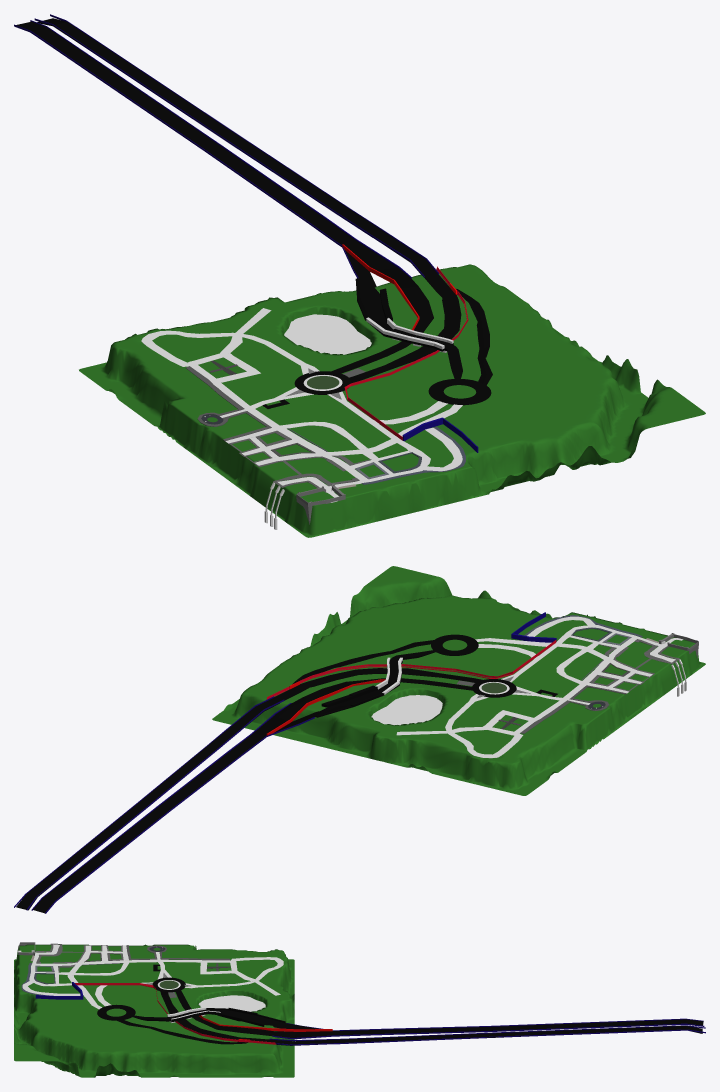
File: StMary'sIsland.fbx
3 views of the same model, one above another, from view 1: azimuth 30°, elevation 25°; view 2: azimuth 150°, elevation 25°; view 3: azimuth 270°, elevation 25° (orthographic). The views are drawn at different scales.
Parts seen in each view (by area): view 1: SaintMary's, M105Westbound, M150EastboundS, LakeWestral, government_road, westral_road, kingston_street, BridgeBarrierSTM.003, Cube.032, BridgeBarrierSTM, Vert.001, BridgeBarrierSTM.001 (+2 smaller); view 2: SaintMary's, M105Westbound, M150EastboundS, LakeWestral, UNFINISHEDAREA, government_road, westral_road, kingston_street, Cube.032, BridgeBarrierSTM, Vert.001, BridgeBarrierSTM.003 (+3 smaller); view 3: SaintMary's, M105Westbound, M150EastboundS, BridgeBarrierSTM.001, BridgeBarrierSTM.002, LakeWestral, government_road, BridgeBarrierSTM, BridgeBarrierSTM.003, UNFINISHEDAREA, westral_road, Cube.032 (+10 smaller).
Part boxes in pixels (x1=…): SaintMary's: x1=79, y1=264, x2=705, y2=537; M105Westbound: x1=16, y1=21, x2=491, y2=405; M150EastboundS: x1=37, y1=18, x2=461, y2=383; LakeWestral: x1=284, y1=314, x2=371, y2=354; government_road: x1=187, y1=361, x2=367, y2=480; westral_road: x1=141, y1=330, x2=319, y2=374; kingston_street: x1=327, y1=391, x2=430, y2=488; BridgeBarrierSTM.003: x1=34, y1=18, x2=424, y2=277; Cube.032: x1=456, y1=289, x2=492, y2=385; BridgeBarrierSTM: x1=14, y1=24, x2=358, y2=278; Vert.001: x1=228, y1=438, x2=359, y2=488; BridgeBarrierSTM.001: x1=30, y1=20, x2=411, y2=278; SaintMary's: x1=212, y1=566, x2=705, y2=795; M105Westbound: x1=33, y1=634, x2=478, y2=913; M150EastboundS: x1=16, y1=668, x2=482, y2=910; LakeWestral: x1=371, y1=695, x2=442, y2=725; UNFINISHEDAREA: x1=266, y1=640, x2=556, y2=699; government_road: x1=511, y1=637, x2=636, y2=735; westral_road: x1=445, y1=694, x2=523, y2=758; kingston_street: x1=501, y1=625, x2=661, y2=682; Cube.032: x1=292, y1=640, x2=433, y2=684; BridgeBarrierSTM: x1=45, y1=717, x2=314, y2=913; Vert.001: x1=613, y1=639, x2=679, y2=691; BridgeBarrierSTM.003: x1=26, y1=699, x2=284, y2=910; SaintMary's: x1=14, y1=944, x2=294, y2=1077; M105Westbound: x1=97, y1=990, x2=703, y2=1039; M150EastboundS: x1=160, y1=991, x2=702, y2=1045; BridgeBarrierSTM.001: x1=272, y1=1023, x2=704, y2=1039; BridgeBarrierSTM.002: x1=275, y1=1029, x2=705, y2=1045; LakeWestral: x1=198, y1=995, x2=265, y2=1011; government_road: x1=35, y1=959, x2=236, y2=965; BridgeBarrierSTM: x1=286, y1=1018, x2=703, y2=1030; BridgeBarrierSTM.003: x1=269, y1=1025, x2=705, y2=1041; UNFINISHEDAREA: x1=75, y1=983, x2=276, y2=1044; westral_road: x1=185, y1=957, x2=283, y2=988; Cube.032: x1=117, y1=1020, x2=248, y2=1044.
Size of the model in its own units: 756 by 88.17 by 1849.
